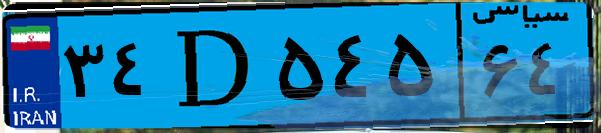3: (57, 26, 110, 100)
4: (330, 28, 385, 110), (525, 38, 570, 115), (110, 28, 158, 98)
5: (270, 28, 330, 110), (385, 28, 445, 110)
6: (475, 38, 525, 113)
D: (158, 12, 270, 120)
